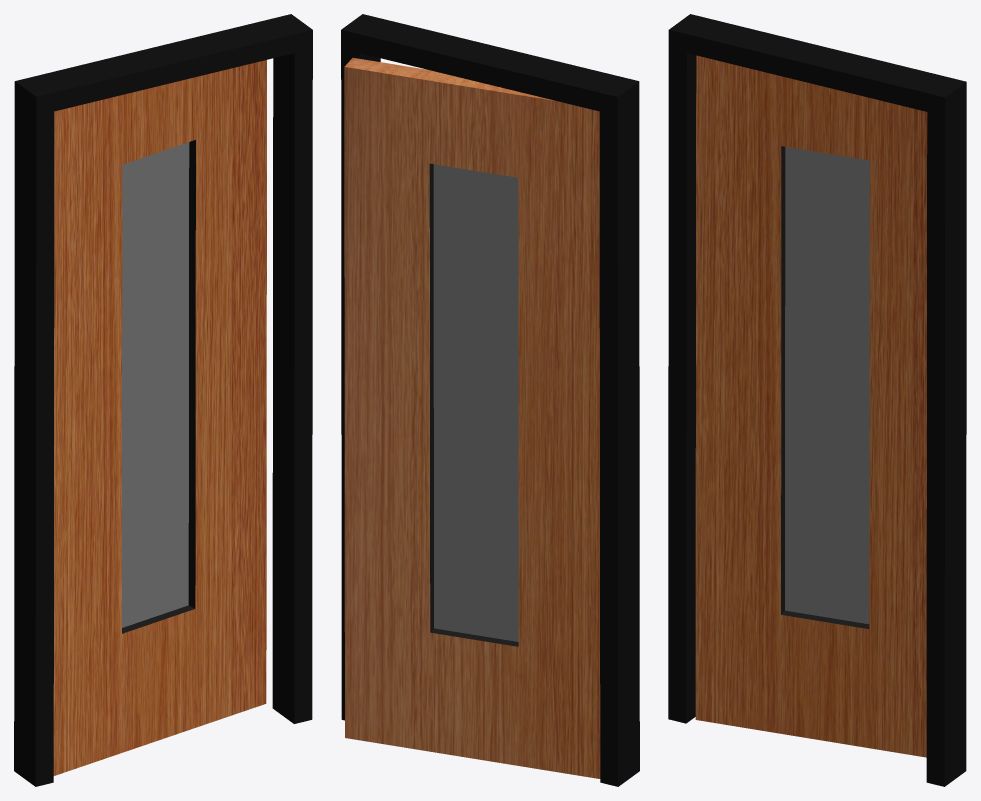
The model's file is door.fbx.
3 renders of one model, left to right at view 1: azimuth 30°, elevation 25°; view 2: azimuth 150°, elevation 25°; view 3: azimuth 330°, elevation 25°, orthographic.
Visible parts, largest first — view 1: PivotDoor001; view 2: PivotDoor001; view 3: PivotDoor001.
Boxes of the visible parts, x1,y1,x2,y2 form: PivotDoor001: [14, 14, 312, 786]; PivotDoor001: [341, 14, 639, 786]; PivotDoor001: [668, 14, 966, 786].
Bounding box in the file's own units: 41.51 × 98.75 × 10.22.
Materials: 5 (2 with a texture image).
